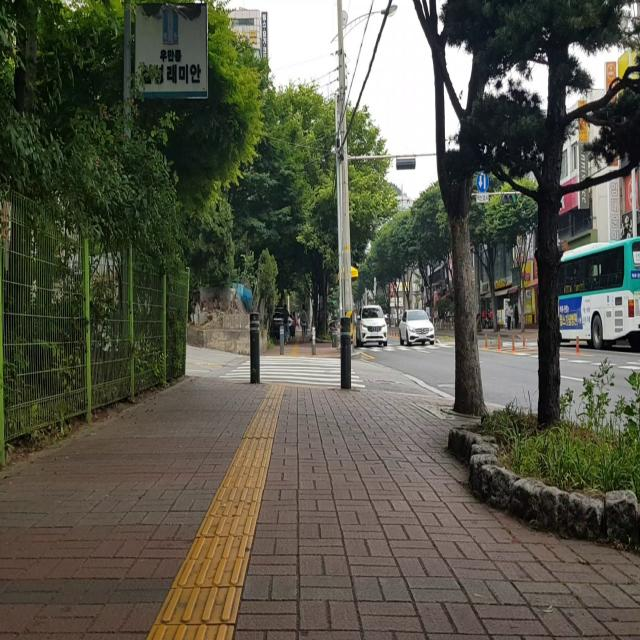횡단보도: (217, 356, 366, 389)
